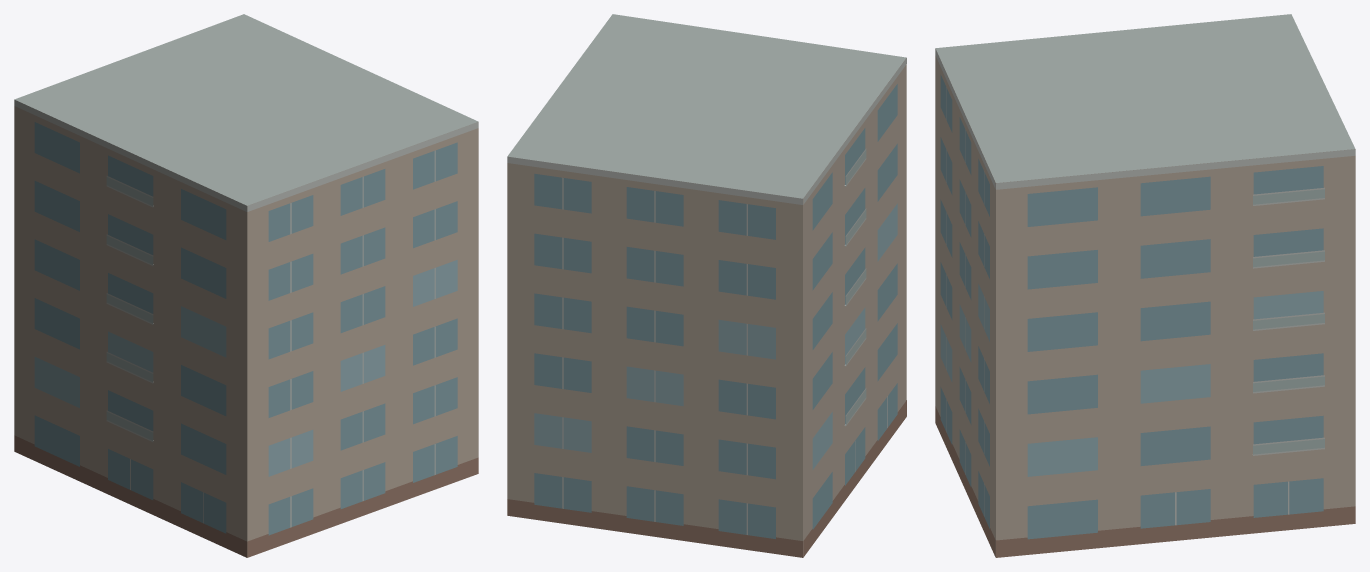
Rendered from survey-upis-33045406.glb.
The picture shows the model from 3 angles, left to right: view 1: azimuth 30°, elevation 25°; view 2: azimuth 150°, elevation 25°; view 3: azimuth 270°, elevation 25°; orthographic projection. The views are drawn at different scales.
Visible parts, largest first — view 1: survey-upis-33045406.tmp; view 2: survey-upis-33045406.tmp; view 3: survey-upis-33045406.tmp.
Boxes of the visible parts, box(x1,y1,x2,y2) form: survey-upis-33045406.tmp: box(14, 14, 478, 557); survey-upis-33045406.tmp: box(507, 14, 906, 557); survey-upis-33045406.tmp: box(935, 14, 1355, 557).
Bounding box in the file's own units: 13.17 × 13.6 × 13.83.
